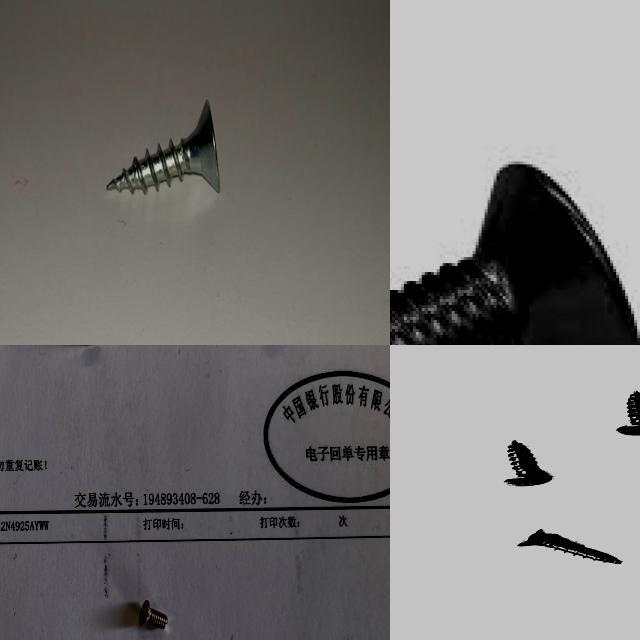Screw: (390, 164, 637, 345), (107, 99, 220, 194), (516, 529, 621, 564), (503, 441, 551, 486), (136, 598, 170, 633), (615, 391, 640, 435)
